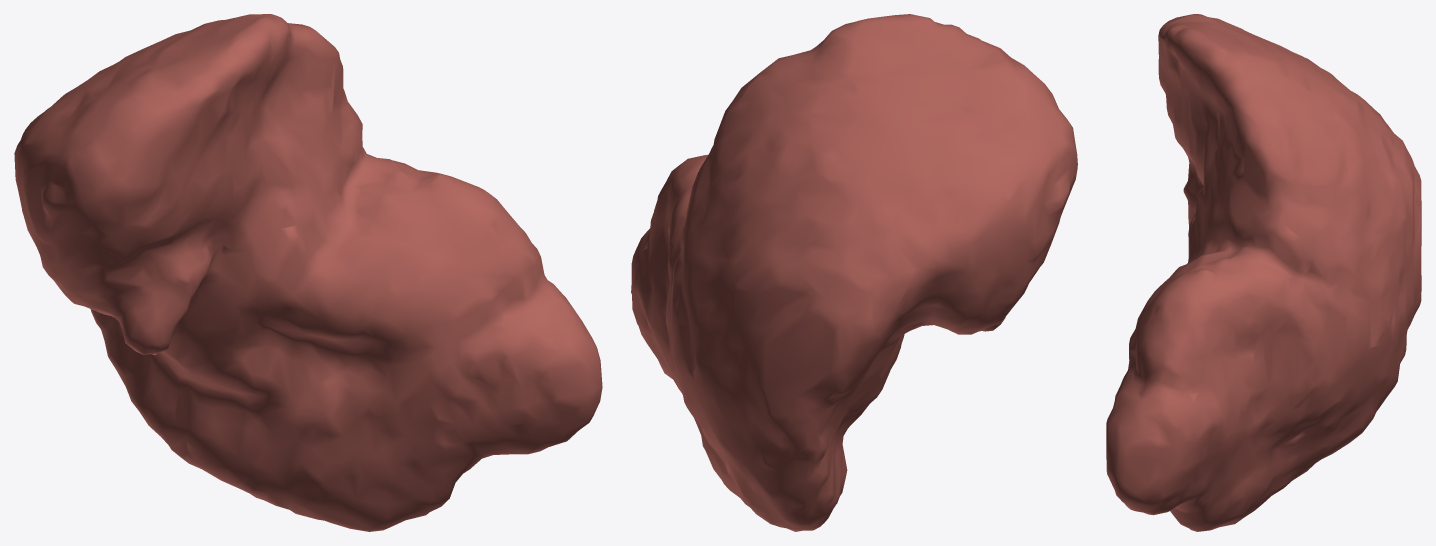
File: tsd_s0196_older_adult_female.lymphatic.LOD1.glb
The picture shows the model from 3 angles, left to right: view 1: azimuth 30°, elevation 25°; view 2: azimuth 150°, elevation 25°; view 3: azimuth 270°, elevation 25°; orthographic projection. The views are drawn at different scales.
Visible parts, largest first — view 1: TSD_S0196.OLDER_ADULT.FEMALE.LYMPHATIC.SPLEEN; view 2: TSD_S0196.OLDER_ADULT.FEMALE.LYMPHATIC.SPLEEN; view 3: TSD_S0196.OLDER_ADULT.FEMALE.LYMPHATIC.SPLEEN.
Part boxes in pixels (box(x1,y1,x2,y2)): TSD_S0196.OLDER_ADULT.FEMALE.LYMPHATIC.SPLEEN: box(14, 14, 602, 531); TSD_S0196.OLDER_ADULT.FEMALE.LYMPHATIC.SPLEEN: box(631, 14, 1077, 531); TSD_S0196.OLDER_ADULT.FEMALE.LYMPHATIC.SPLEEN: box(1106, 14, 1421, 531).
Size of the model in its own units: 0.0933 by 0.0964 by 0.0633.
